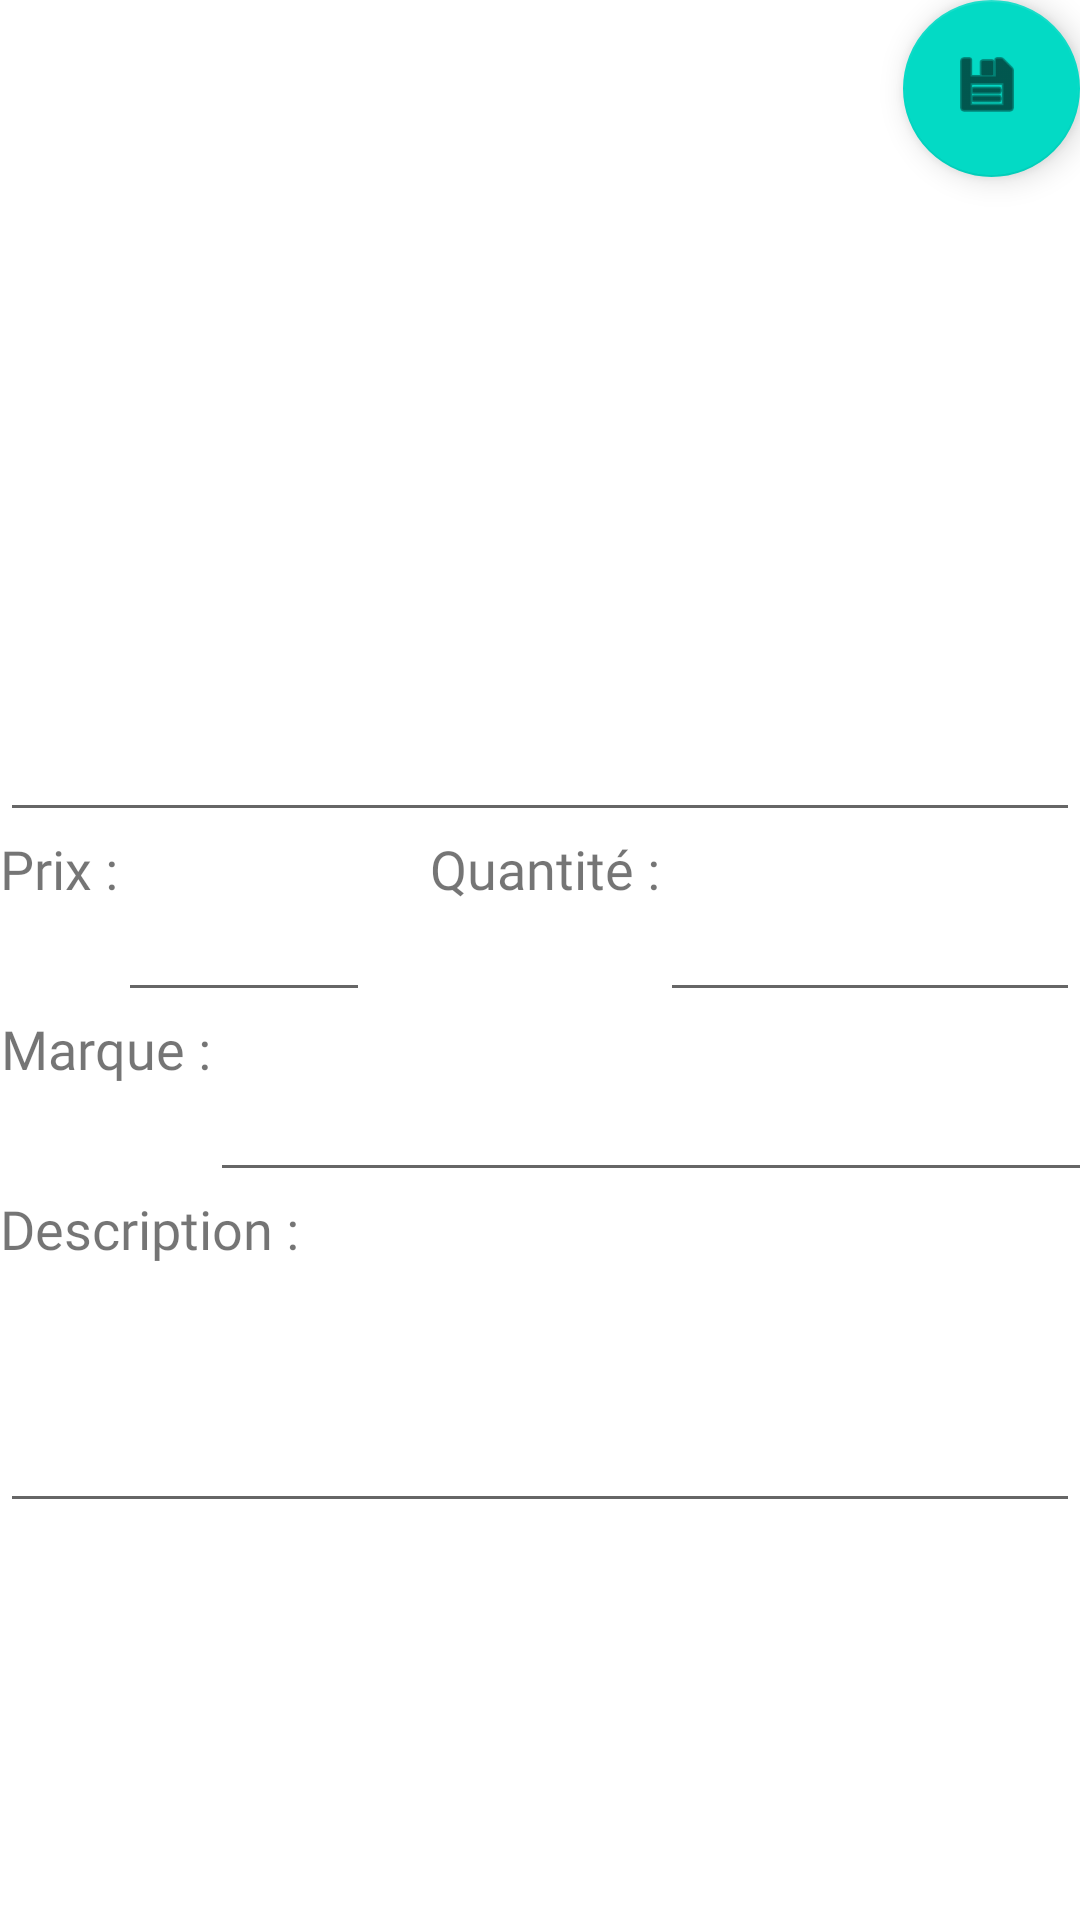

Named icons in this screenshot (1080 x 1920) and their bounding boxes, {"x1": x1, "y1": y1, "x2": x2, "y2": y2}:
save: {"x1": 903, "y1": 0, "x2": 1080, "y2": 177}
